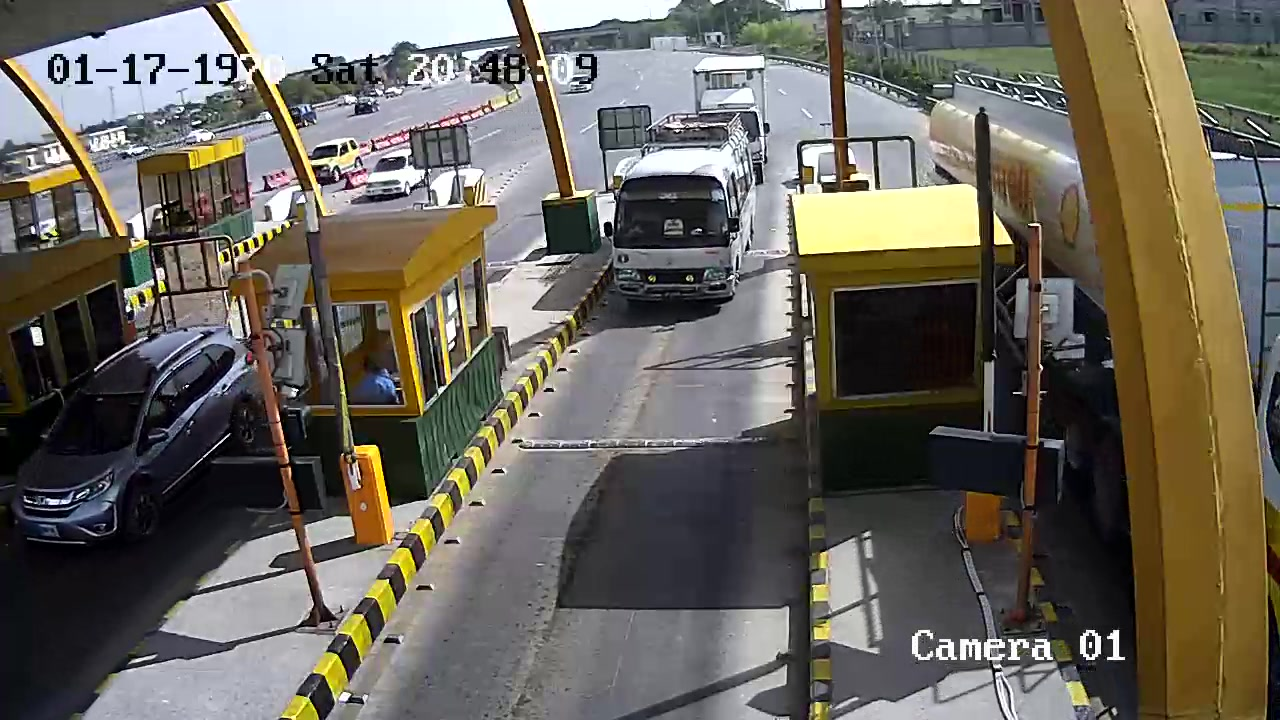F3: (609, 111, 759, 323)
